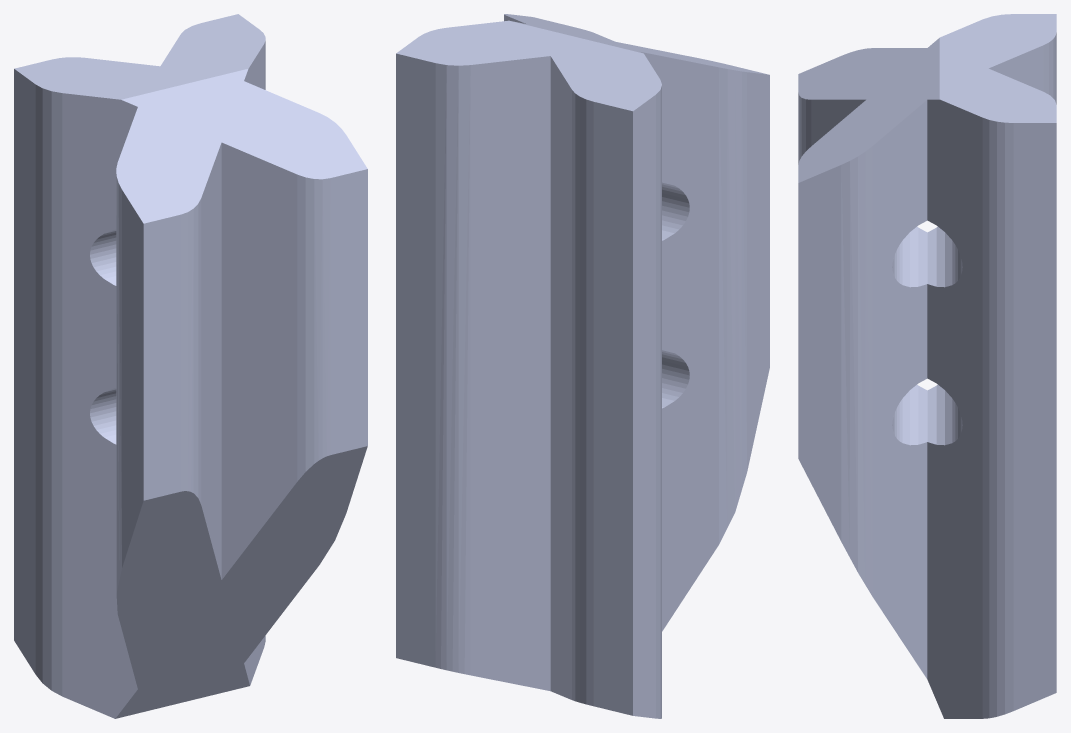
Rendered from body__x1_tube_crush_box__x1_tube_crush_box.obj.
The picture shows the model from 3 angles, left to right: view 1: azimuth 30°, elevation 25°; view 2: azimuth 150°, elevation 25°; view 3: azimuth 270°, elevation 25°; orthographic projection. The views are drawn at different scales.
Bounding box in the file's own units: 0.0188 × 0.0496 × 0.0188.
